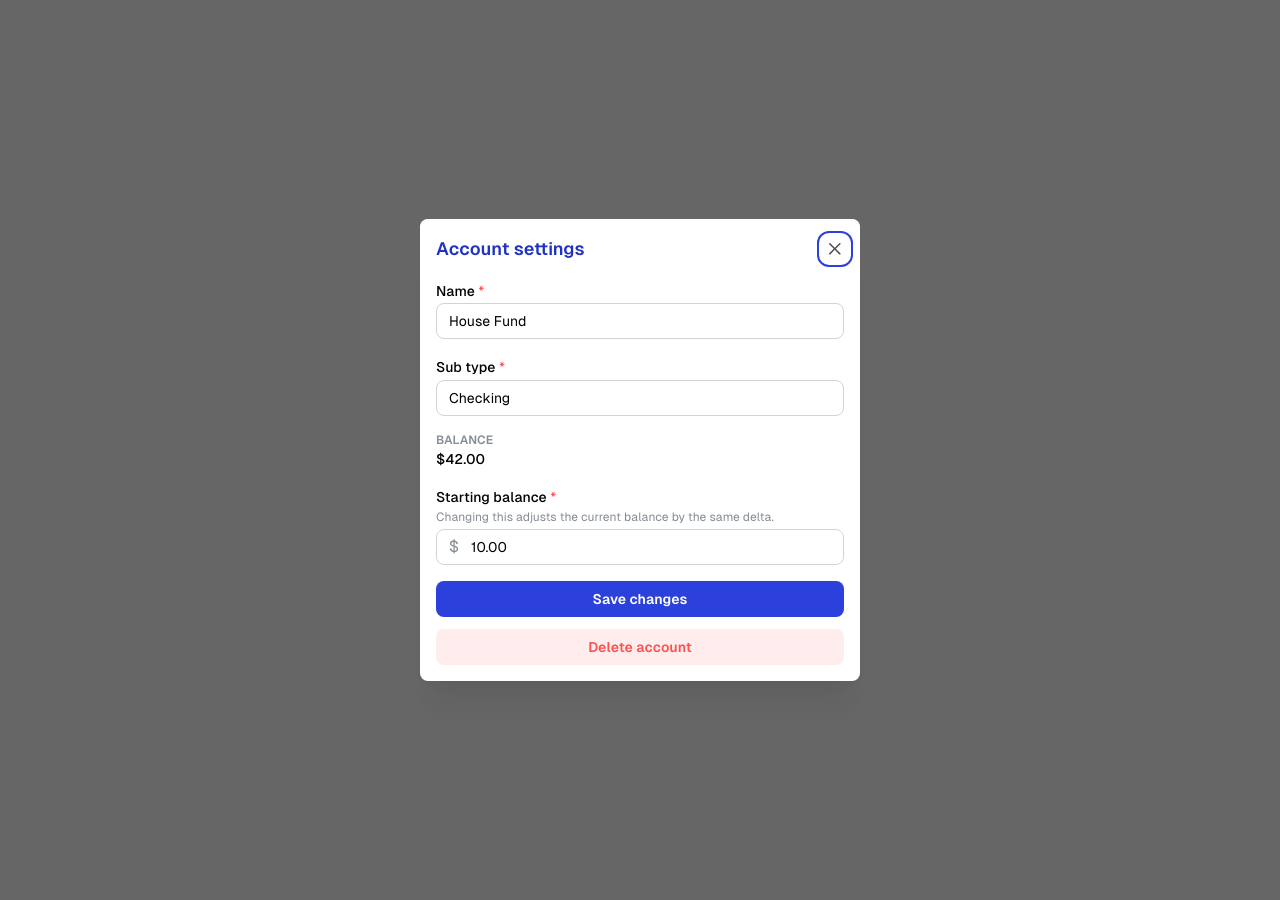
Test case: EditAccountModal › opens a separate delete confirm modal while settings stays open
The image size is (1280, 900).
Click the button "Delete account" at (640, 647), box [436,629,844,665]
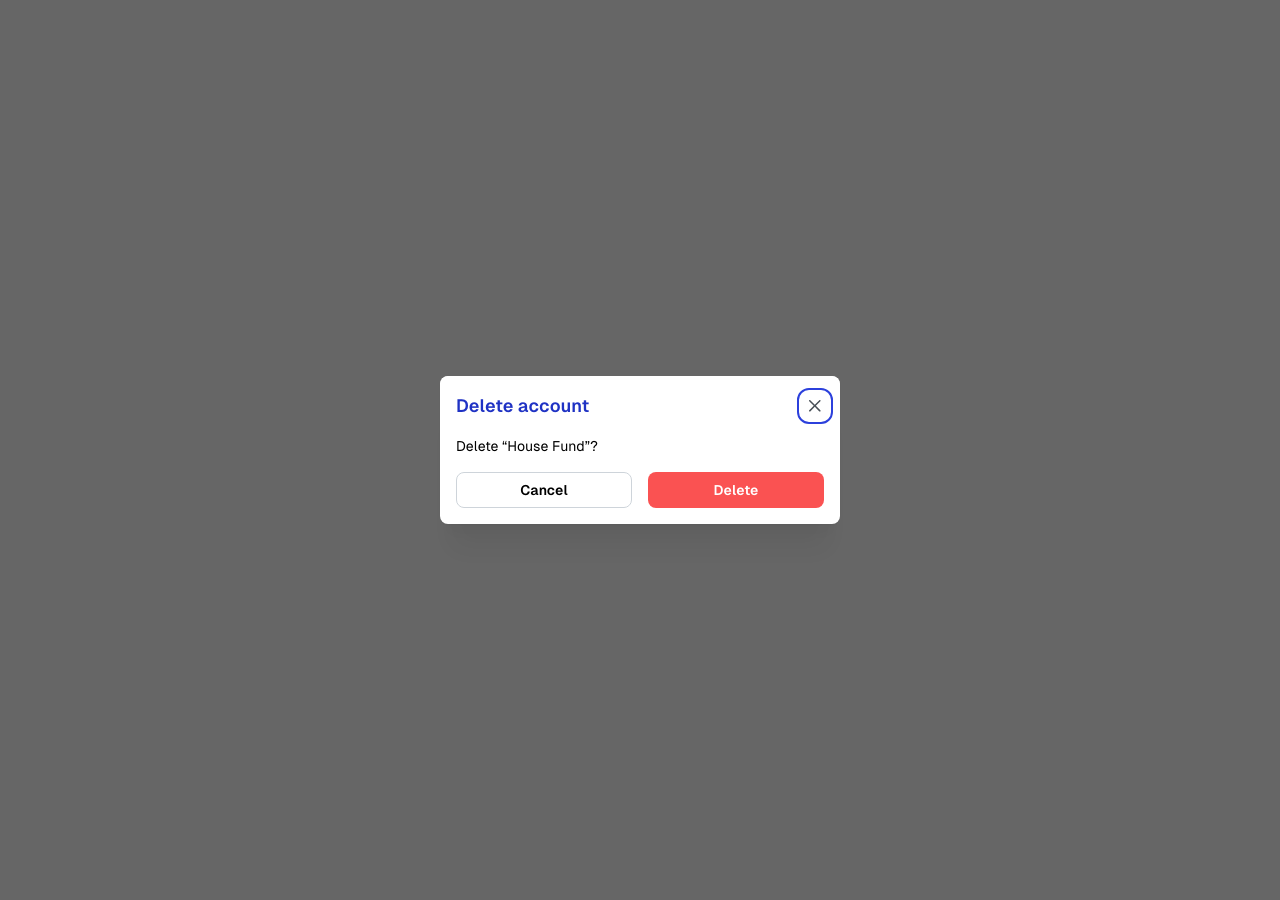
Expected: the heading "Delete account" is shown, [456,393,589,419]
Now the text "Delete “House Fund”?" is shown, box [456,438,598,454]
